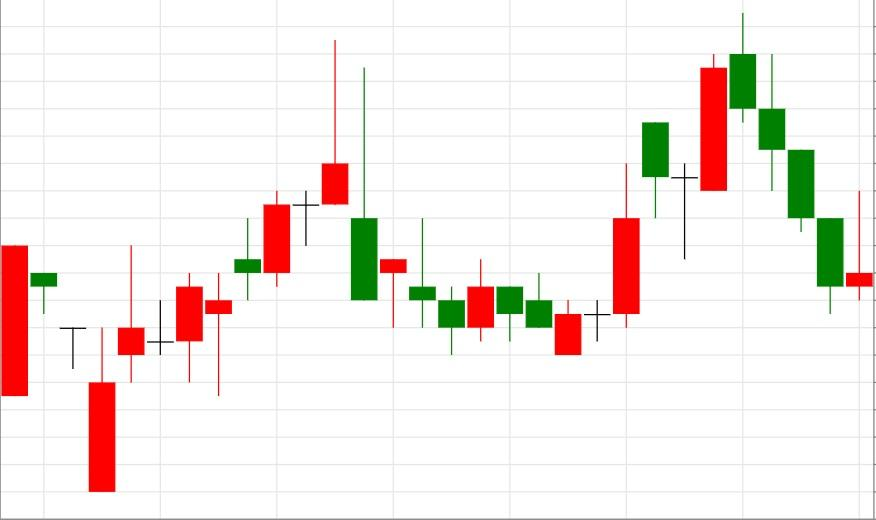shooting_star_fall: (88, 40, 349, 492)
three_black_crows_fall: (554, 13, 815, 355)
